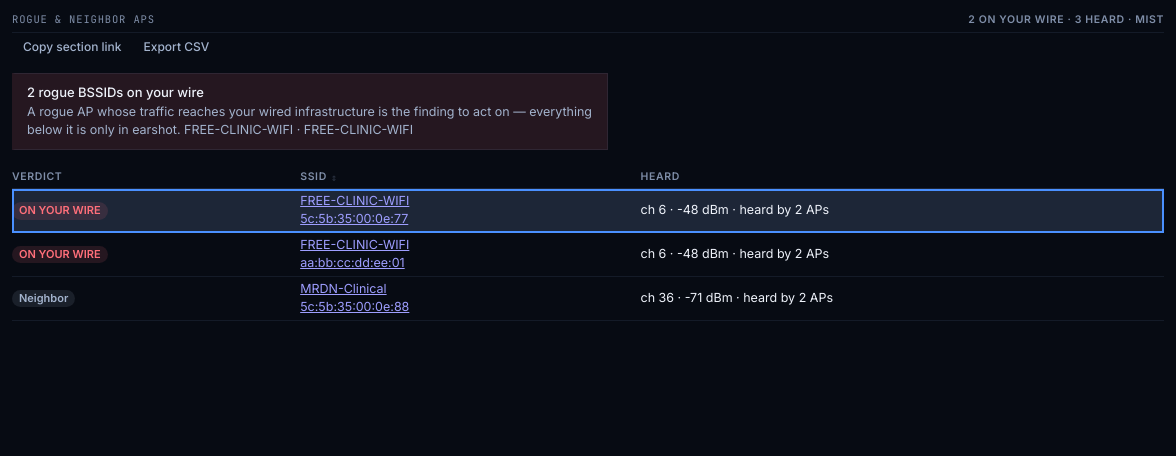
it: SiteRogueAps bulk (Loop 193) › Loop 235 Copy names joins unique SSIDs from the selection
Press x in the 2nd row, box [12,189,1164,233]
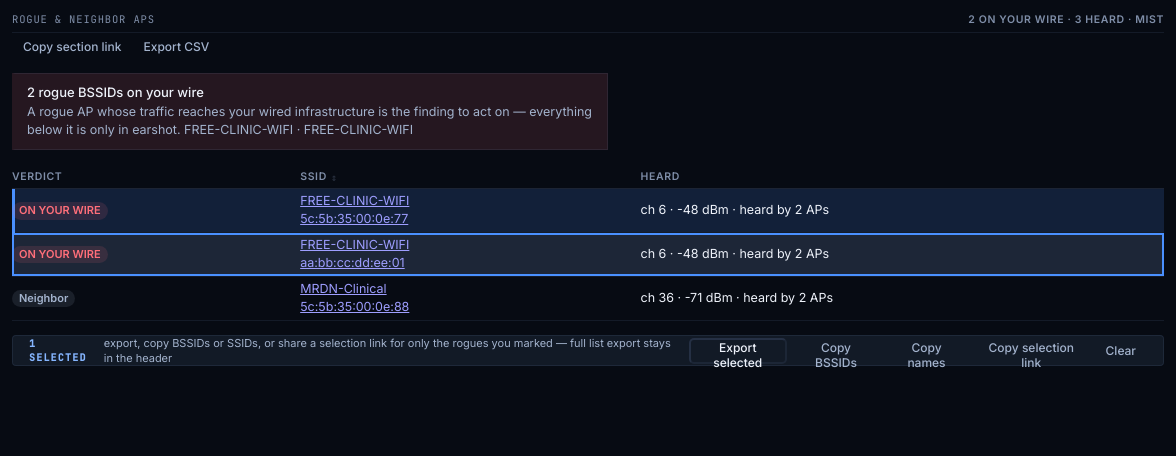
Press x in the 3rd row, box [12,233,1164,276]
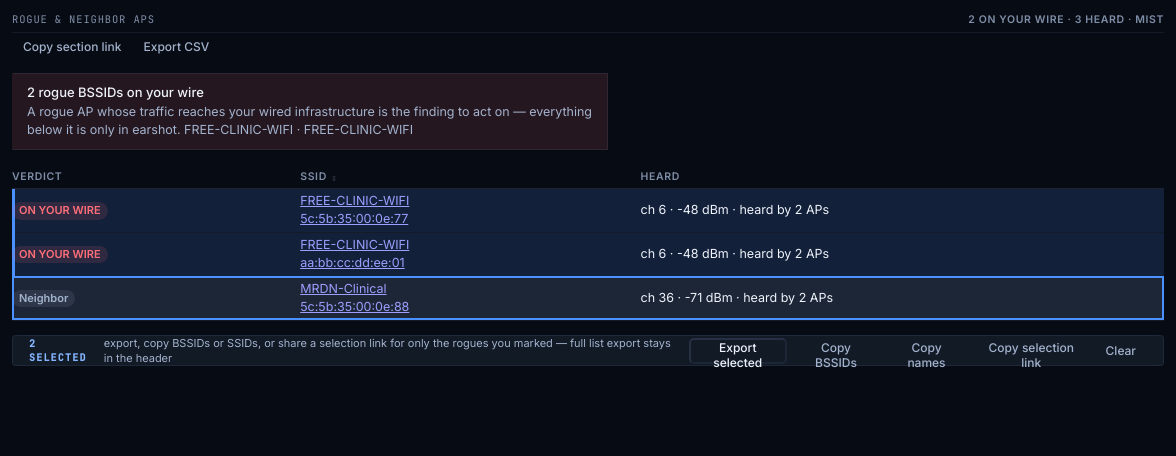
Press x in the row that starts with "neighbor", box [12,276,1164,320]
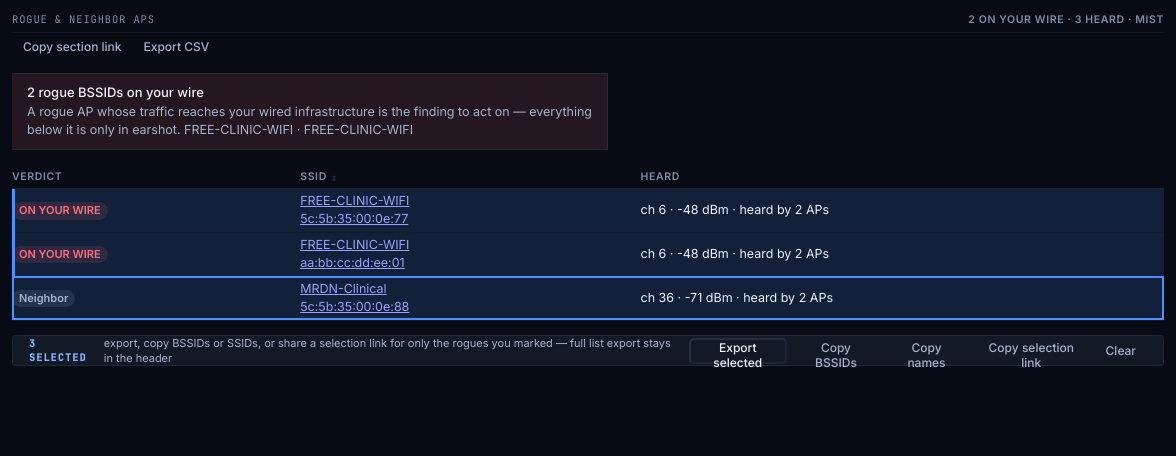
Now the button "Copy names" is shown
Click the button "Copy names".
click(926, 351)  # box [885,338,968,364]
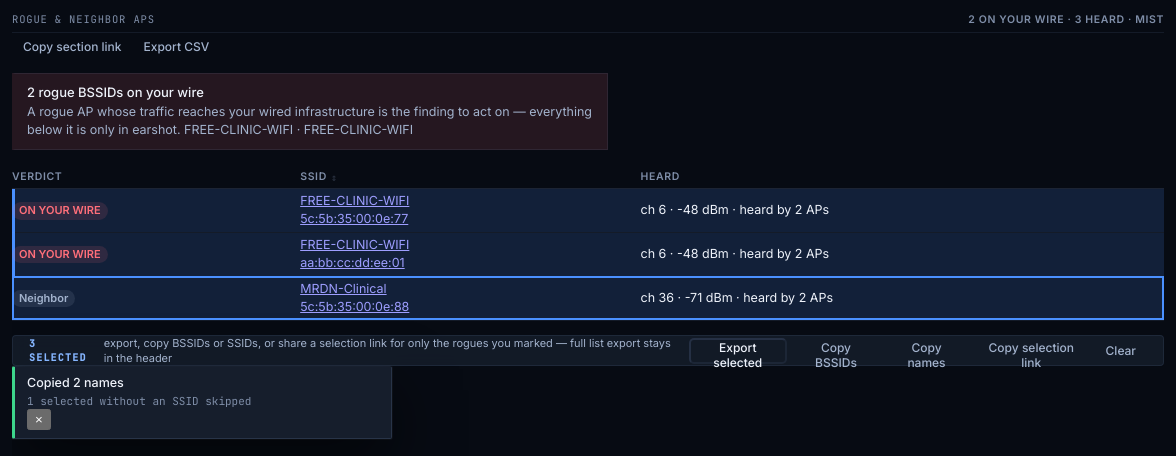
Now the text "Copied 2 names" is shown, box [27,375,124,390]
